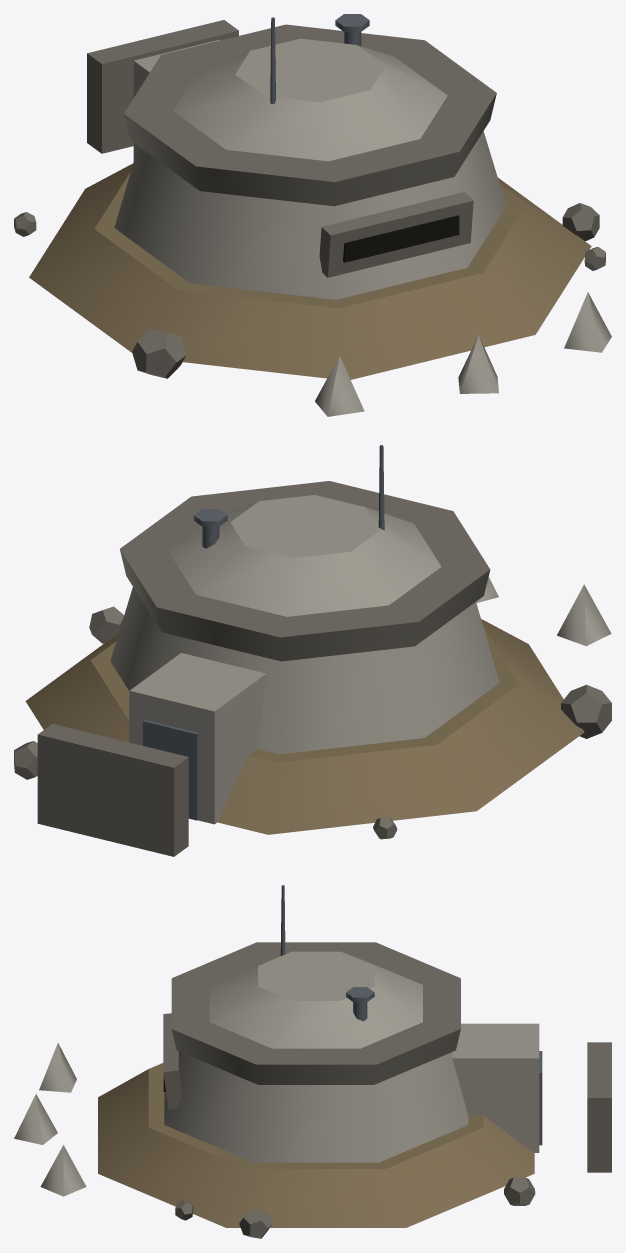
The model's file is concrete-bunker.glb.
3 renders of one model, top to bottom at view 1: azimuth 30°, elevation 25°; view 2: azimuth 150°, elevation 25°; view 3: azimuth 270°, elevation 25°, orthographic. The views are drawn at different scales.
Visible parts, largest first — view 1: berm, hull, roof_slab, roof_cap, blast_wall, slit_surround, slit, rubble_2, dragons_tooth_2, dragons_tooth_0, dragons_tooth_1, rubble_1 (+1 smaller); view 2: berm, hull, roof_slab, roof_cap, blast_wall, entry_corridor, door, rubble_2, dragons_tooth_2, rubble_1, rubble_4; view 3: berm, hull, roof_slab, roof_cap, entry_corridor, blast_wall, slit_surround, dragons_tooth_0, dragons_tooth_1, dragons_tooth_2, rubble_4, rubble_1.
Part boxes in pixels (x1,y1,x2,y2): berm: (29, 163, 591, 379); hull: (114, 131, 506, 299); roof_slab: (124, 24, 496, 206); roof_cap: (173, 38, 447, 161); blast_wall: (87, 20, 238, 153); slit_surround: (319, 192, 473, 277); slit: (343, 215, 459, 262); rubble_2: (132, 328, 186, 378); dragons_tooth_2: (315, 356, 364, 416); dragons_tooth_0: (564, 292, 611, 352); dragons_tooth_1: (458, 335, 498, 393); rubble_1: (562, 203, 599, 241); berm: (25, 619, 584, 834); hull: (110, 587, 499, 754); roof_slab: (120, 481, 490, 661); roof_cap: (168, 495, 441, 616); blast_wall: (37, 724, 188, 856); entry_corridor: (129, 653, 266, 824); door: (143, 720, 198, 820); rubble_2: (561, 684, 611, 738); dragons_tooth_2: (557, 584, 611, 646); rubble_1: (89, 606, 123, 643); rubble_4: (14, 741, 37, 779); berm: (98, 1063, 534, 1227); hull: (164, 1051, 468, 1162); roof_slab: (171, 942, 460, 1084); roof_cap: (209, 951, 422, 1048); entry_corridor: (452, 1023, 539, 1152); blast_wall: (587, 1042, 611, 1172); slit_surround: (163, 1013, 181, 1109); dragons_tooth_0: (40, 1145, 86, 1196); dragons_tooth_1: (14, 1094, 57, 1144); dragons_tooth_2: (39, 1043, 76, 1092); rubble_4: (504, 1177, 535, 1205); rubble_1: (239, 1209, 272, 1238).
Size of the model in its own units: 8.5 by 4.78 by 10.88.
